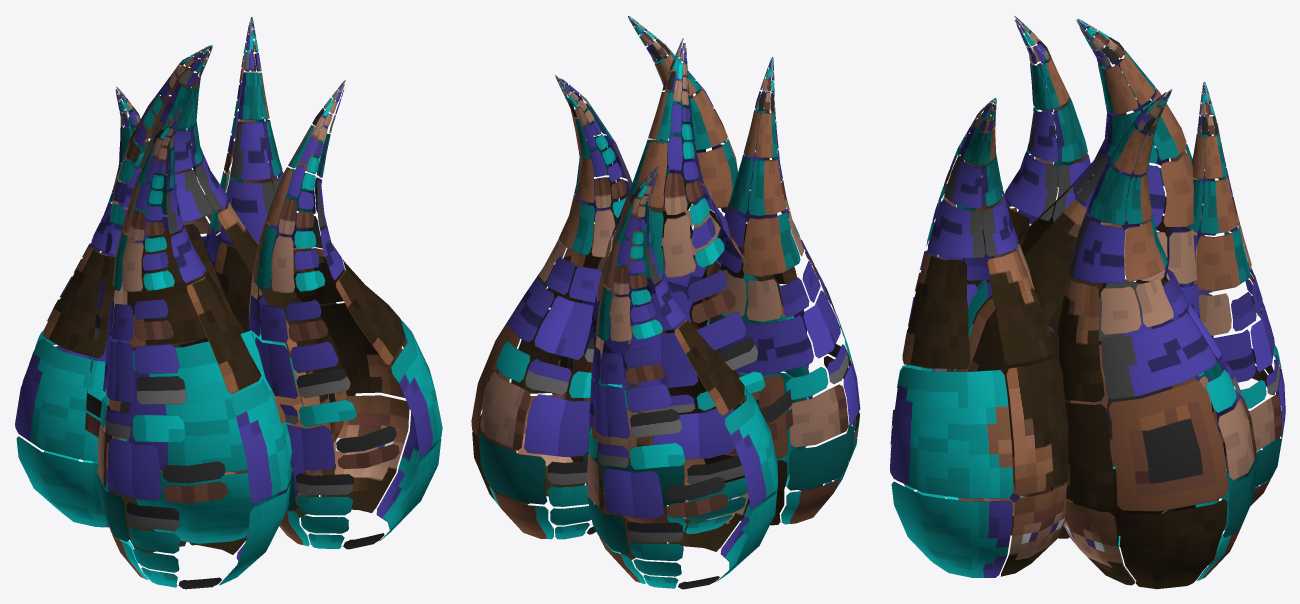
The picture shows the model from 3 angles, left to right: view 1: azimuth 30°, elevation 25°; view 2: azimuth 150°, elevation 25°; view 3: azimuth 270°, elevation 25°; orthographic projection. The views are drawn at different scales.
Parts seen in each view (by area): view 1: flame_NurbsPath.015; view 2: flame_NurbsPath.015; view 3: flame_NurbsPath.015.
Part boxes in pixels (<box>): flame_NurbsPath.015: <box>15,17,442,589</box>; flame_NurbsPath.015: <box>471,16,860,589</box>; flame_NurbsPath.015: <box>890,16,1285,589</box>.
Bounding box in the file's own units: 0.7553 × 1.14 × 0.798.
